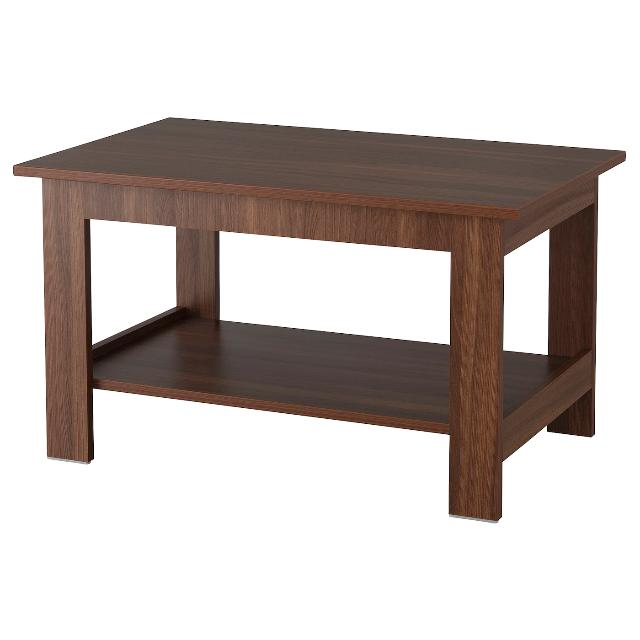obstacle: (14, 48, 620, 594)
